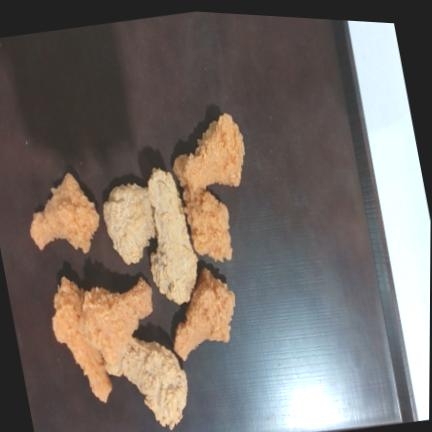chicken: (53, 277, 112, 402), (148, 169, 198, 304), (83, 278, 152, 375), (174, 155, 233, 261), (122, 338, 188, 429), (174, 268, 235, 361), (31, 174, 99, 253), (185, 114, 245, 190), (104, 183, 156, 264)
